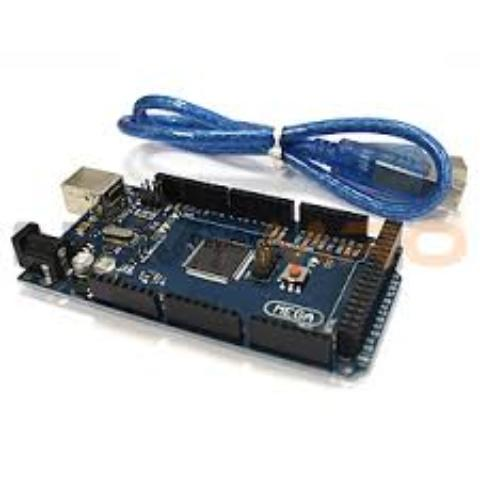Arduino-Mega: (7, 160, 414, 392)
